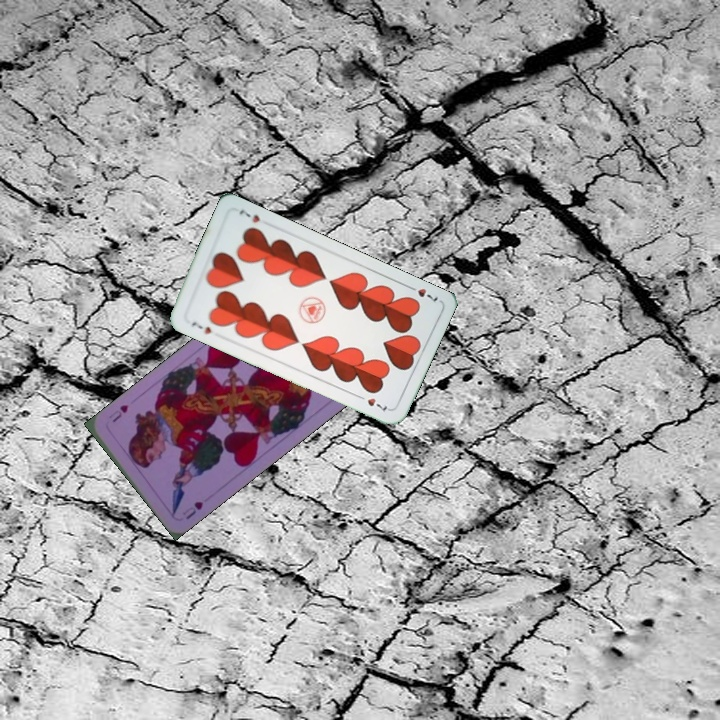H7: (403, 281, 441, 304), (187, 317, 214, 337)
HU: (178, 497, 206, 522)
